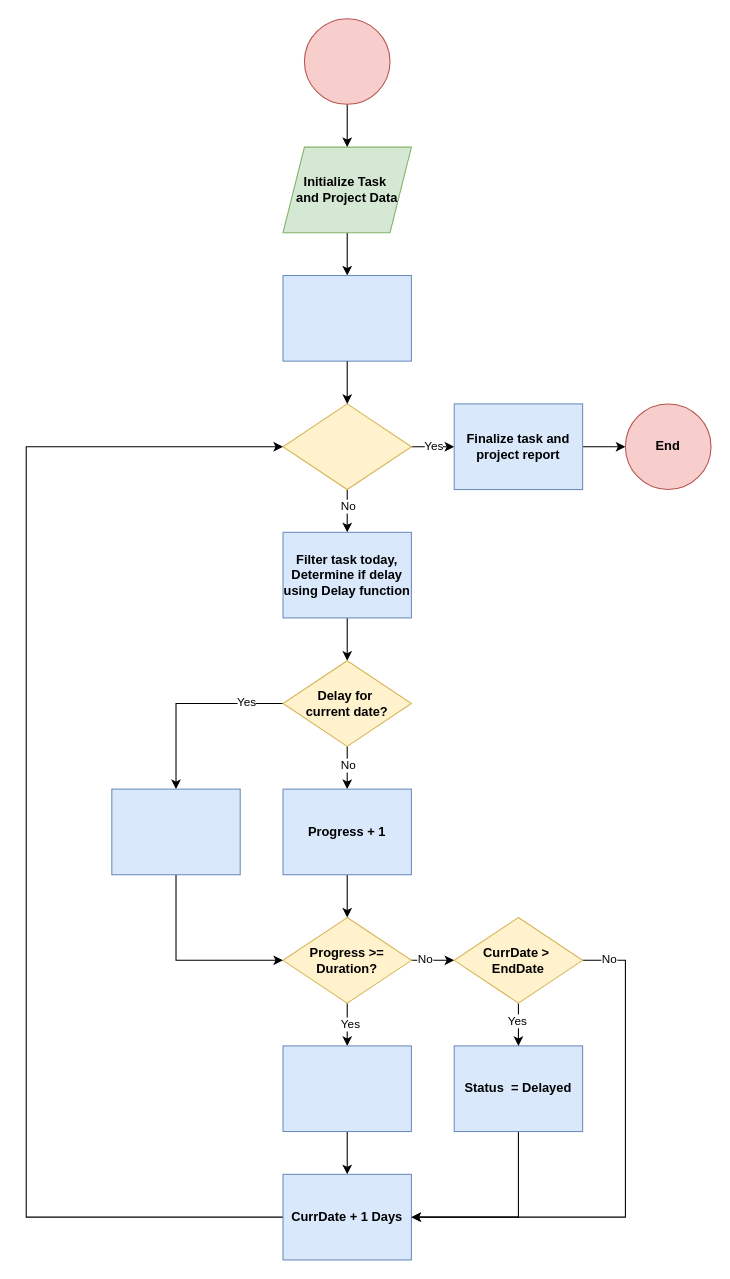
Some shapes in this 730 by 1279 pixel diagram are drawn without their labels. Each missing label, with the centre of its shape:
All task status Completed?: pixel 346 446
Progress + 0: pixel 175 831
Set CurrDate = Min StartDate: pixel 346 317
Start: pixel 346 61
Status = Completed ActualEndDate = CurrDate: pixel 346 1088
